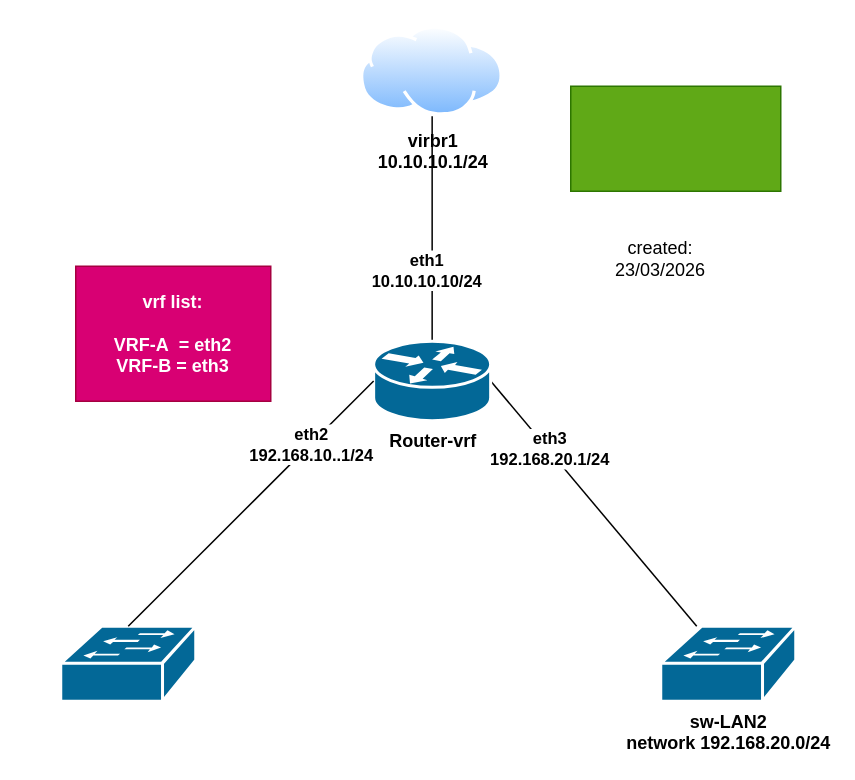
Some shapes in this 855 by 780 pixel diagram are drawn without their labels. The shapes that lost their labels are listed below. From the top down, each one's centre as x and y in pixels, then its label:
(675,138): vrf-basic
(127,663): sw-LAN1 network 192.168.10.0/24
